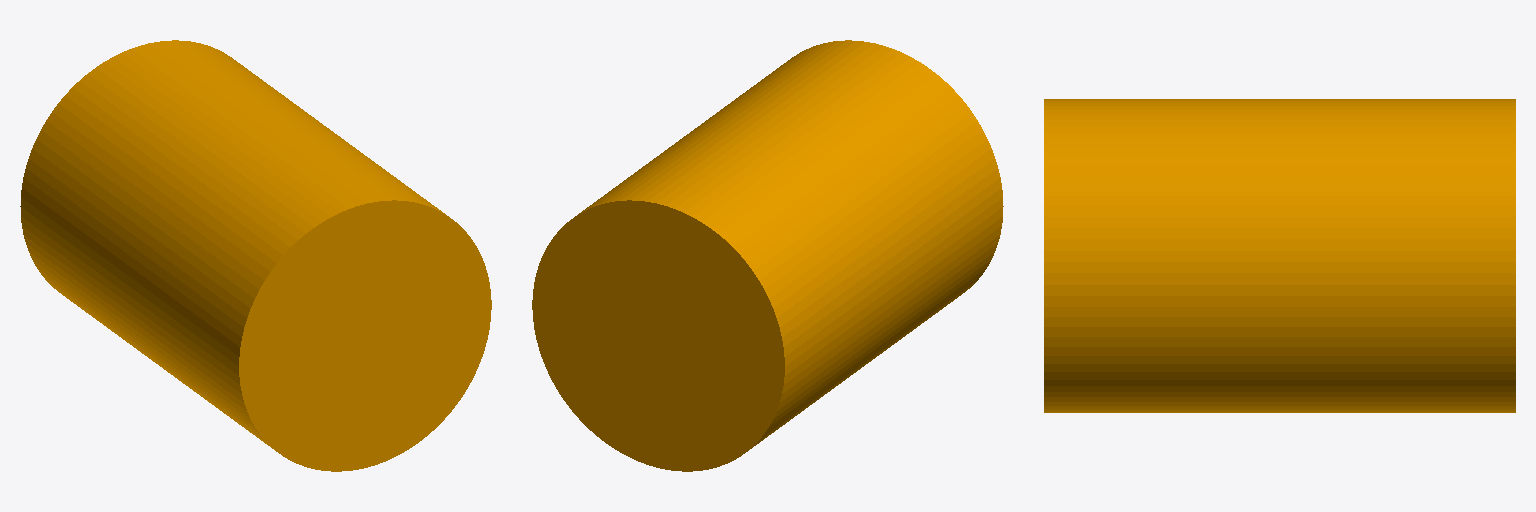
The robot description file, URDF, robot "tubes_c":
<?xml version="1.0" ?>
<robot name="tubes_c">

<link name="tubes_c_base_link">
  <inertial>
    <origin xyz="0.0 0.014999999999999996 0.0" rpy="0 0 0"/>
    <mass value="0.07398450699203965"/>
    <inertia ixx="7e-06" iyy="4e-06" izz="7e-06" ixy="0.0" iyz="0.0" ixz="0.0"/>
  </inertial>
  <visual>
    <origin xyz="0 0 0" rpy="0 0 0"/>
    <geometry>
      <mesh filename="meshes/tubes_c_base_link.stl" scale="0.001 0.001 0.001"/>
    </geometry>
    <material name="silver"/>
  </visual>
  <collision>
    <origin xyz="0 0 0" rpy="0 0 0"/>
    <geometry>
      <mesh filename="meshes/tubes_c_base_link.stl" scale="0.001 0.001 0.001"/>
    </geometry>
  </collision>
</link>

<link name="tubes_c_AP1_1">
  <inertial>
    <origin xyz="0.0 -3.3306690738754695e-18 0.0" rpy="0 0 0"/>
    <mass value="3.288200310757317e-05"/>
    <inertia ixx="0.0" iyy="0.0" izz="0.0" ixy="0.0" iyz="-0.0" ixz="-0.0"/>
  </inertial>
  
  
</link>

<link name="tubes_c_AP2_1">
  <inertial>
    <origin xyz="0.0 0.0 0.0" rpy="0 0 0"/>
    <mass value="3.288200310757317e-05"/>
    <inertia ixx="0.0" iyy="0.0" izz="0.0" ixy="-0.0" iyz="-0.0" ixz="-0.0"/>
  </inertial>
  
  
</link>

<joint name="Rigid 1" type="fixed">
  <origin xyz="0.0 0.0 0.0" rpy="0 0 0"/>
  <parent link="tubes_c_base_link"/>
  <child link="tubes_c_AP1_1"/>
</joint>

<joint name="Rigid 2" type="fixed">
  <origin xyz="0.0 0.03 0.0" rpy="0 0 0"/>
  <parent link="tubes_c_base_link"/>
  <child link="tubes_c_AP2_1"/>
</joint>

</robot>

--- What the picture shows (computed from the rendered views, not written in the file) ---
The picture shows the robot from 3 angles, left to right: view 1: azimuth 30°, elevation 25°; view 2: azimuth 150°, elevation 25°; view 3: azimuth 270°, elevation 25°; orthographic projection.
Model tubes_c with 3 links and 2 joints (2 fixed), rooted at tubes_c_base_link, posed all joints at 0.
Visible links, largest first — view 1: tubes_c_base_link; view 2: tubes_c_base_link; view 3: tubes_c_base_link.
Link boxes in pixels (box(x1,y1,x2,y2)): tubes_c_base_link: box(20, 40, 491, 471); tubes_c_base_link: box(532, 40, 1003, 471); tubes_c_base_link: box(1044, 99, 1515, 412).
Size in the robot's own frame: 0.02 by 0.03 by 0.02 metres.
Meshes: 1 distinct files referenced, 1 mesh visuals loaded (1 binary STL).